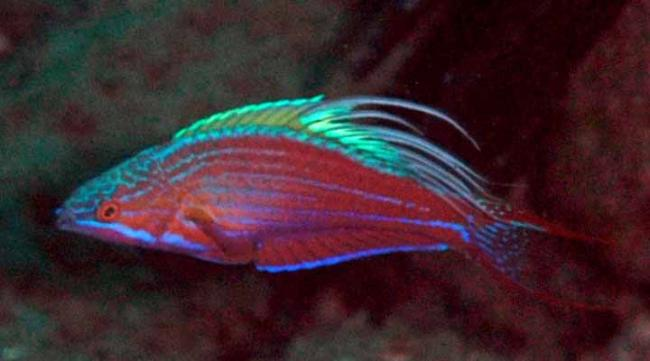fish: (54, 94, 612, 313)
